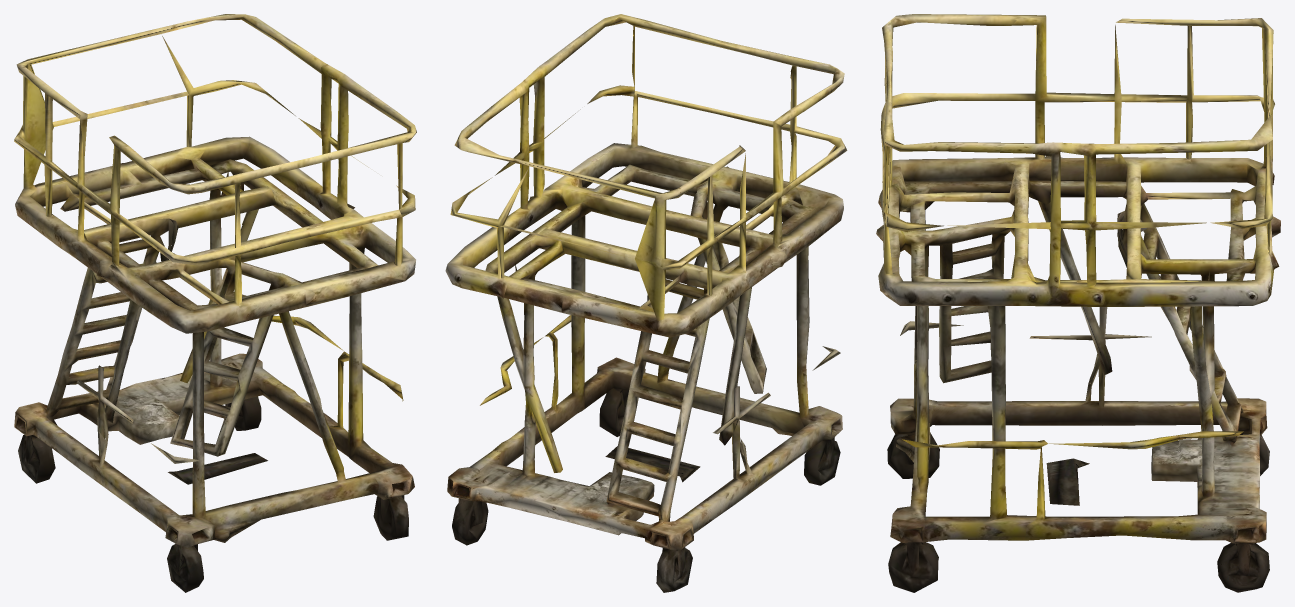
File: ap_platform.glb
The picture shows the model from 3 angles, left to right: view 1: azimuth 30°, elevation 25°; view 2: azimuth 150°, elevation 25°; view 3: azimuth 270°, elevation 25°; orthographic projection. The views are drawn at different scales.
Parts seen in each view (by area): view 1: tripo_node_a9bb5256-824b-4fcc-9248-fa04c49bf64f; view 2: tripo_node_a9bb5256-824b-4fcc-9248-fa04c49bf64f; view 3: tripo_node_a9bb5256-824b-4fcc-9248-fa04c49bf64f.
Part boxes in pixels (x1=…): tripo_node_a9bb5256-824b-4fcc-9248-fa04c49bf64f: x1=14, y1=14, x2=416, y2=592; tripo_node_a9bb5256-824b-4fcc-9248-fa04c49bf64f: x1=445, y1=14, x2=847, y2=592; tripo_node_a9bb5256-824b-4fcc-9248-fa04c49bf64f: x1=876, y1=14, x2=1280, y2=592.
Size of the model in its own units: 0.6492 by 1 by 0.8027.
1 material, 1 textured.
